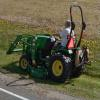Tractor: (12, 20, 100, 87)
